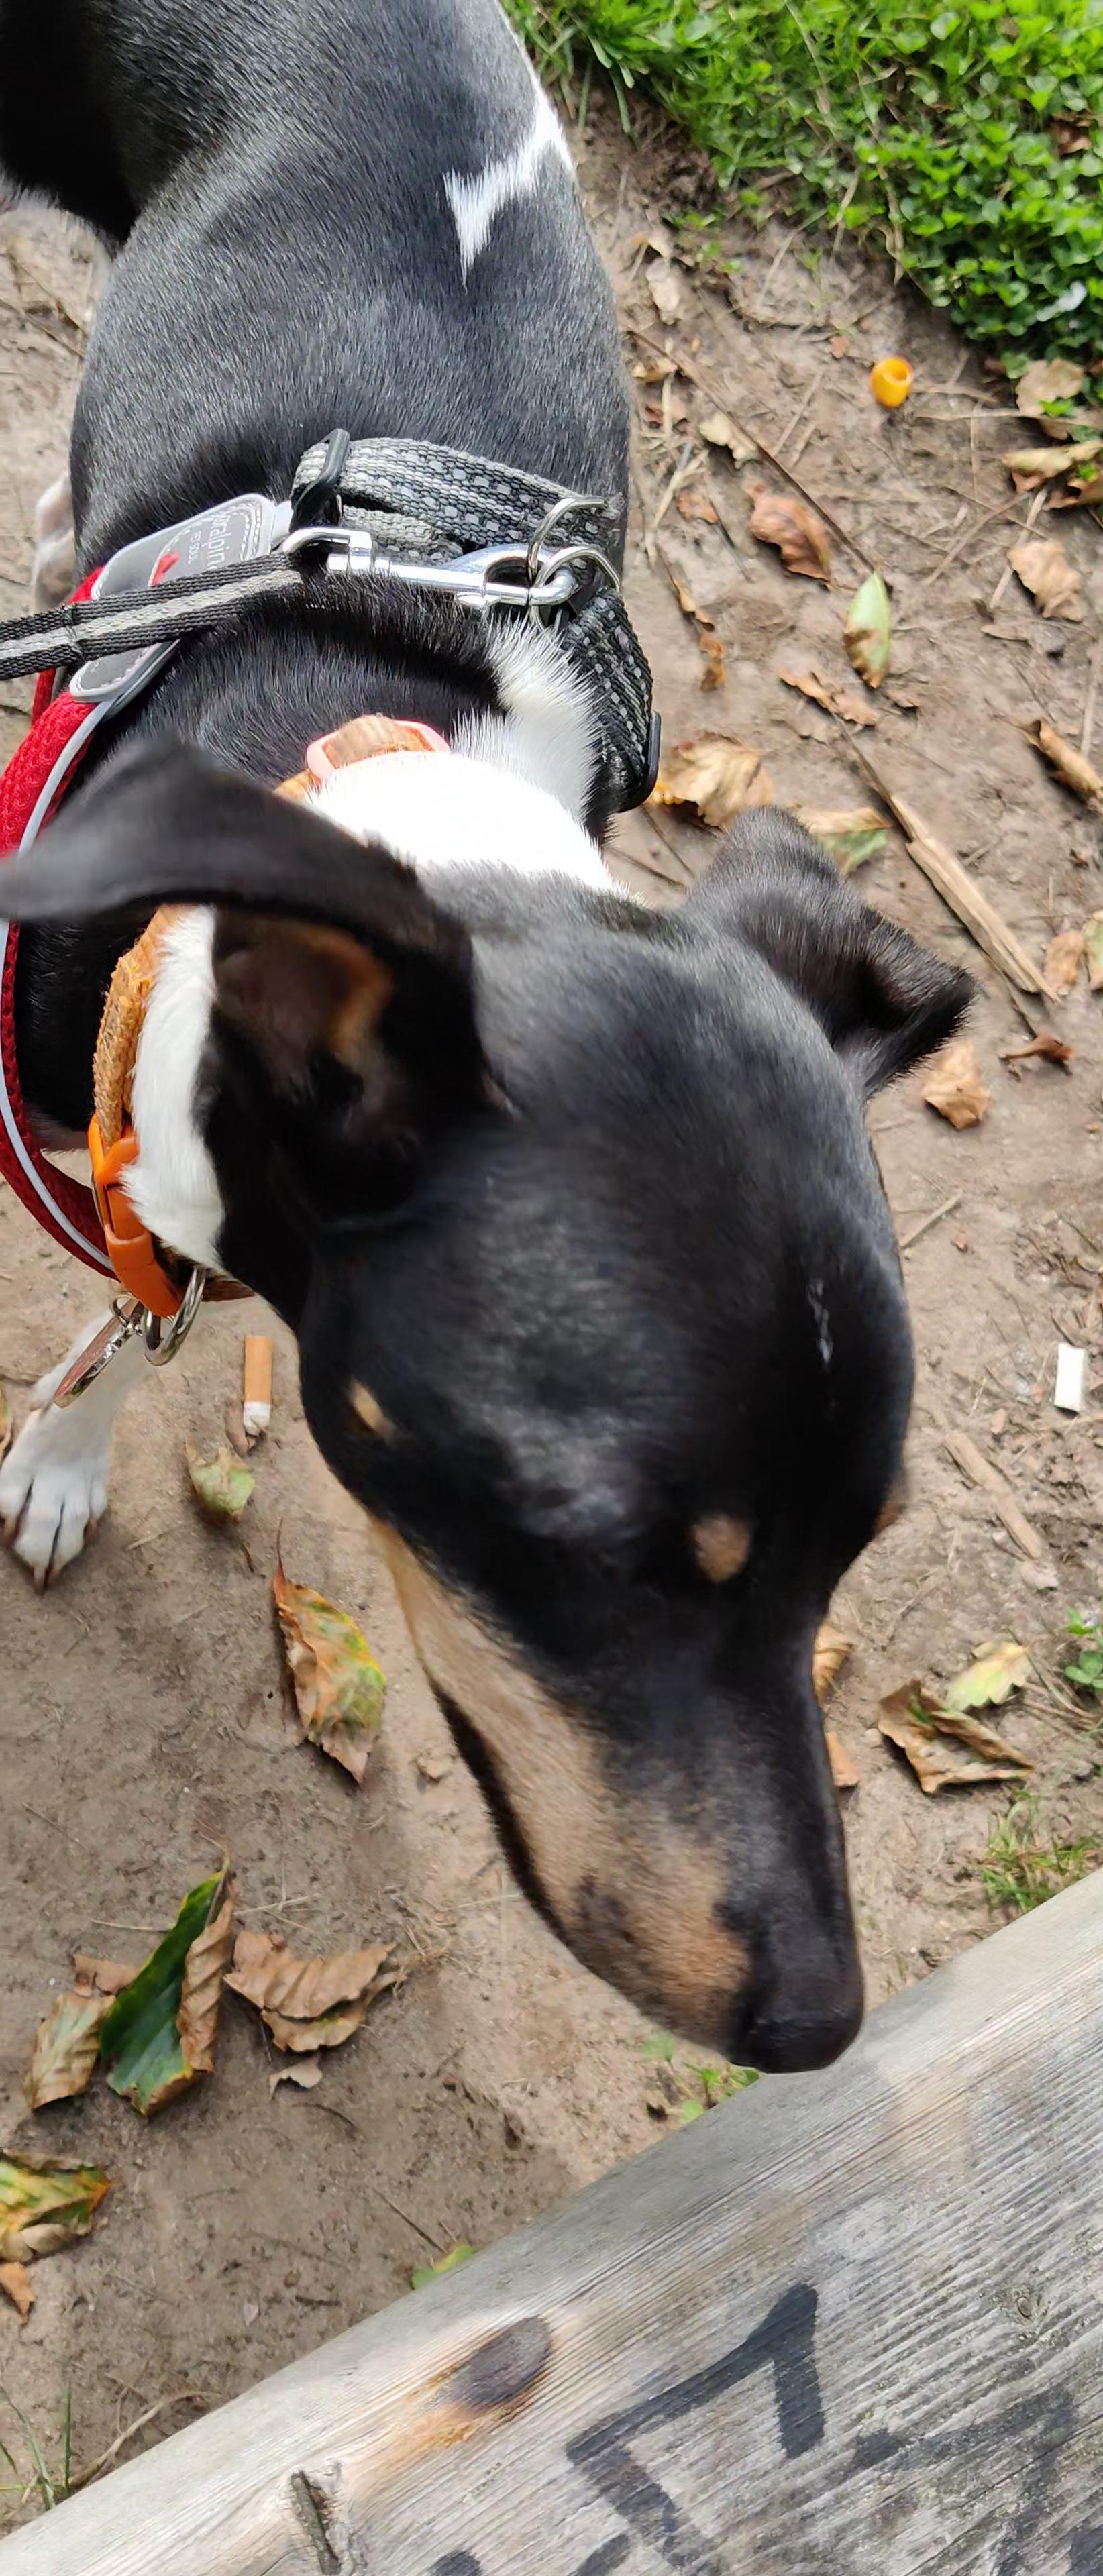Dog: (0, 0, 999, 2136)
